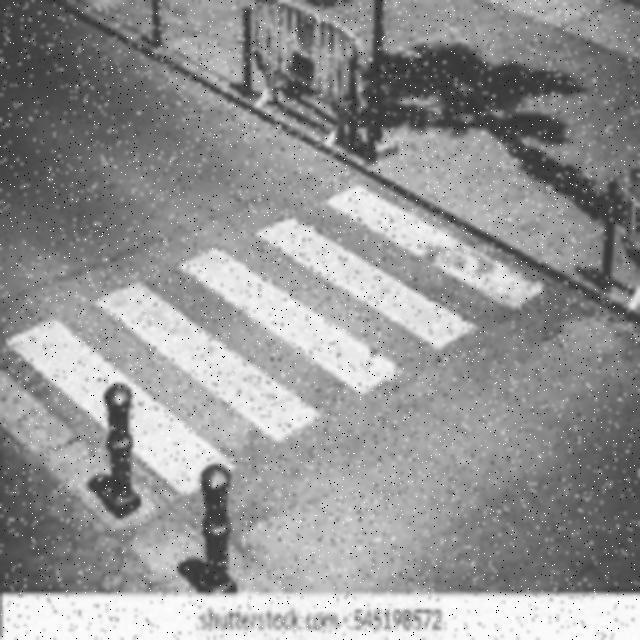crosswalk: (1, 181, 552, 502)
